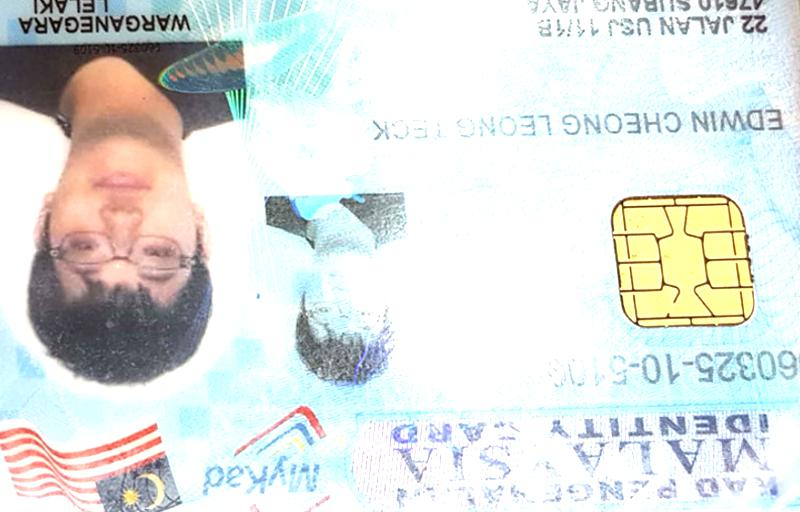hologramB: (246, 4, 356, 191)
